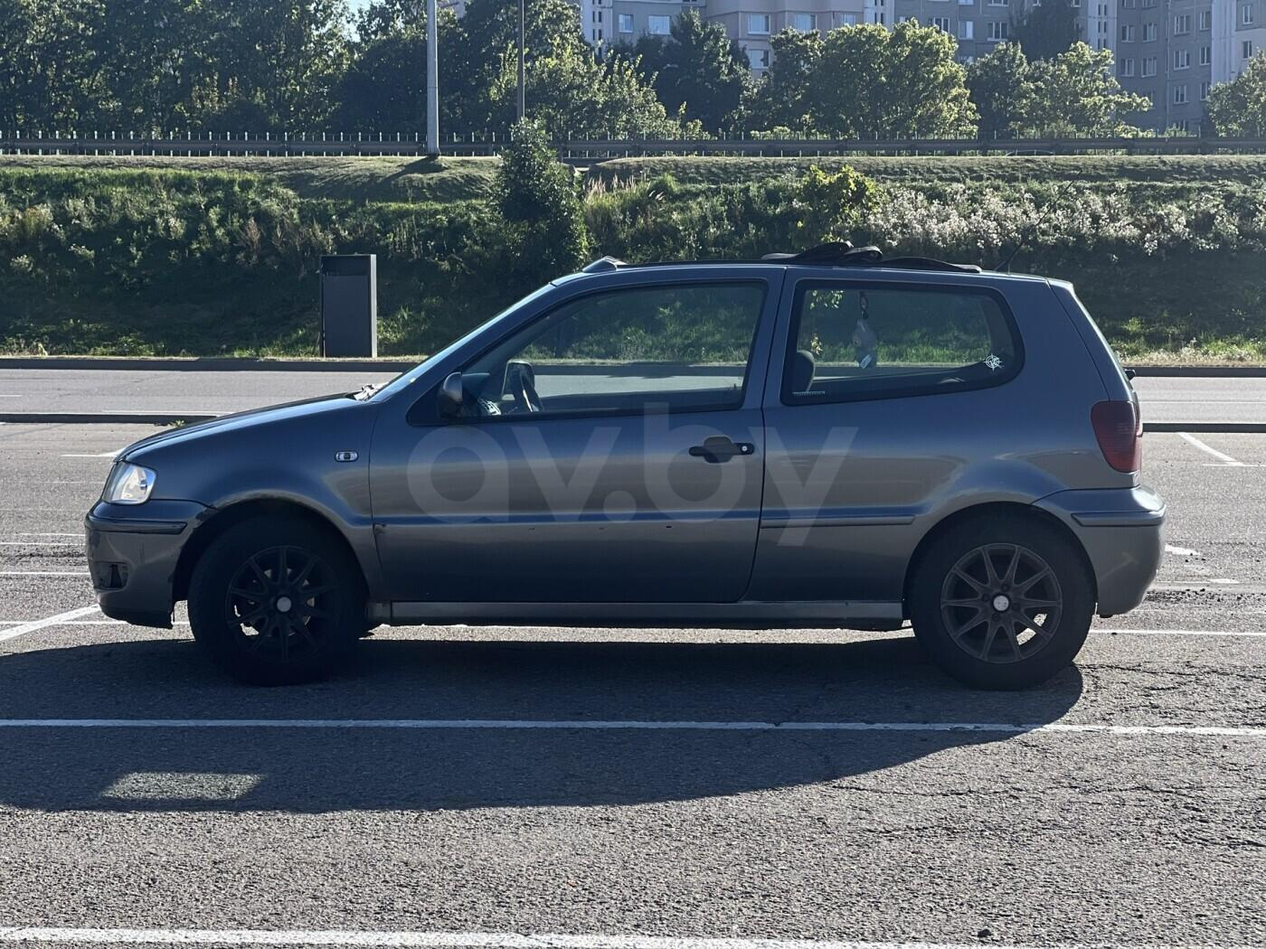Polo_2000-2002: (76, 234, 1167, 682)
